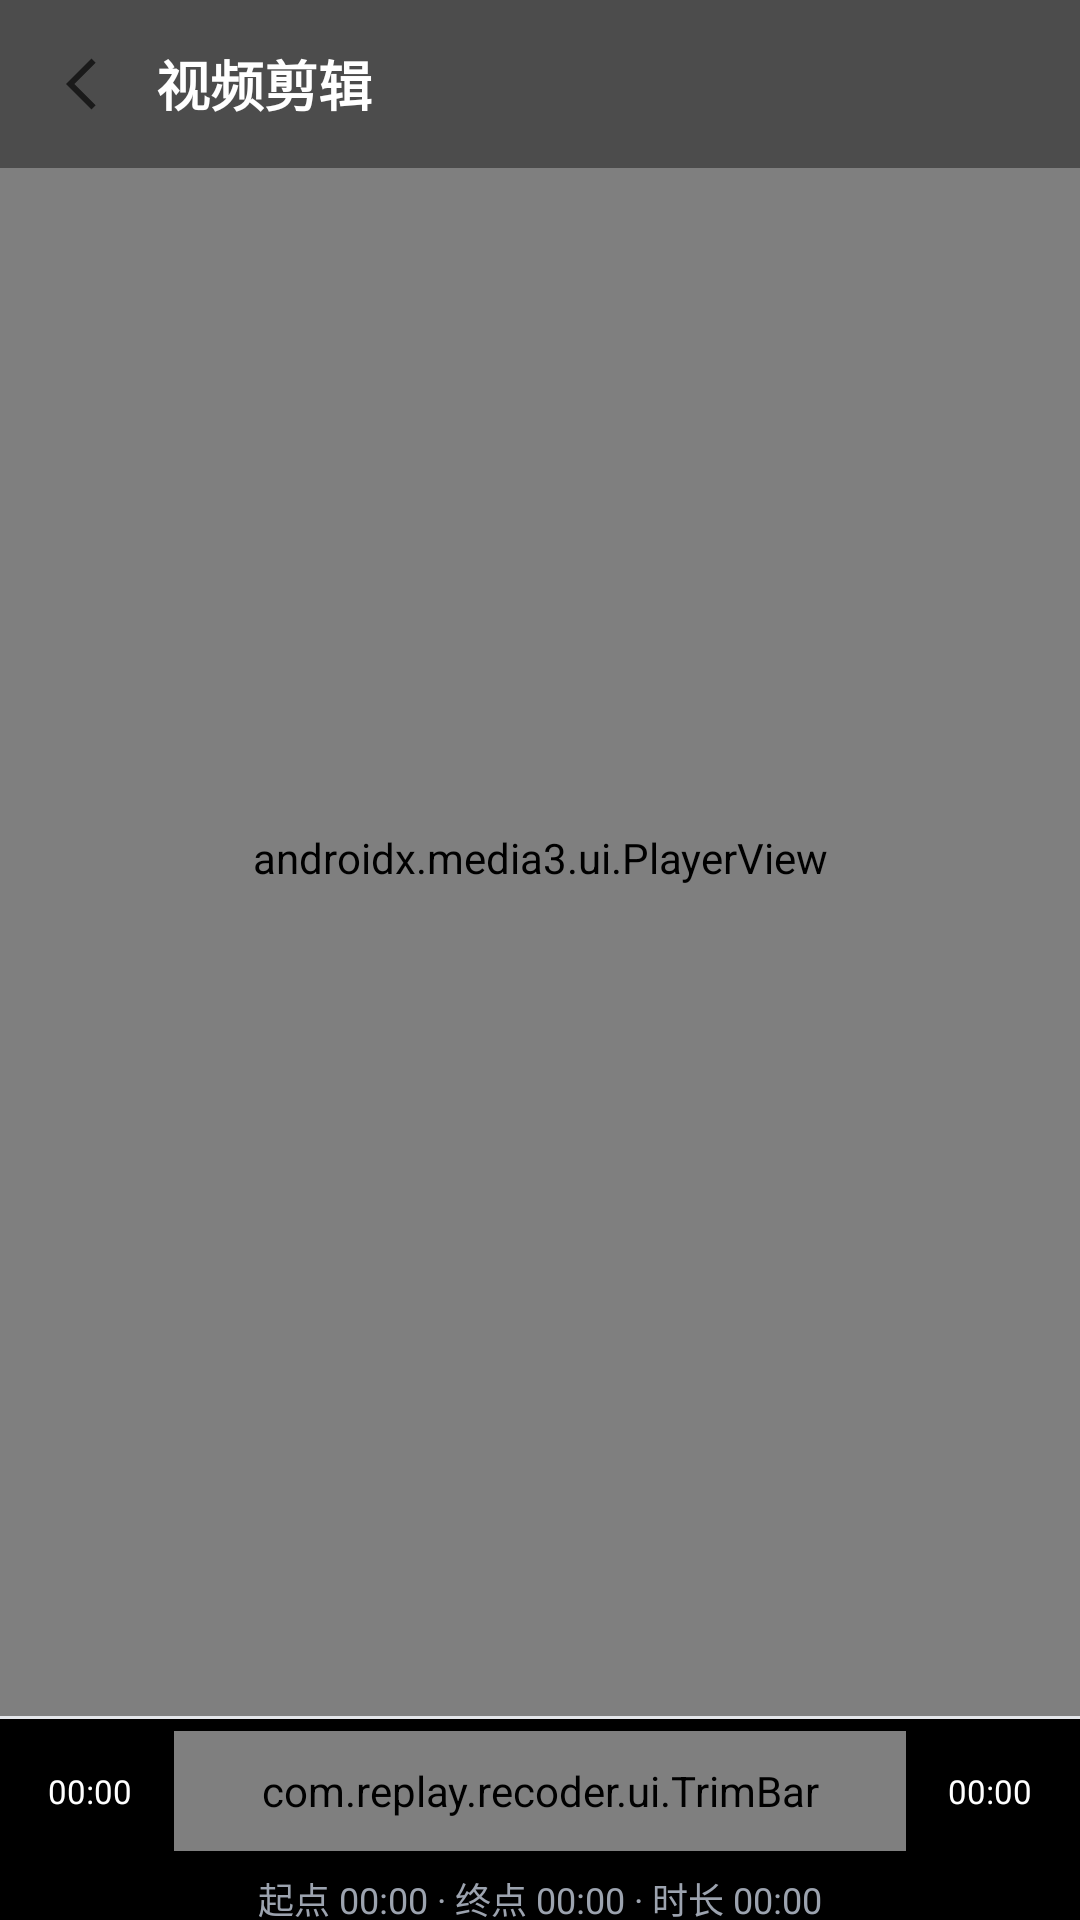

Where to tap for icons on this 1080*1920 app screen, as point (x, y):
返回: point (80, 84)
